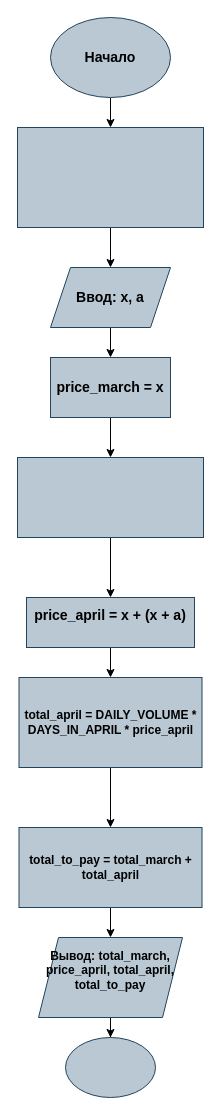
This 221x1115 diagram has some shape labels left out. Here are the shapes that lost their labels. From the top down, the centre of each, then its label:
At (x=110, y=177): "DAILY_VOLUME = 4 DAYS_IN_MARCH = 31 DAYS_IN_APRIL = 30".
At (x=110, y=497): "total_march = DAILY_VOLUME * DAYS_IN_MARCH * price_march".
At (x=110, y=1067): "Конец".
